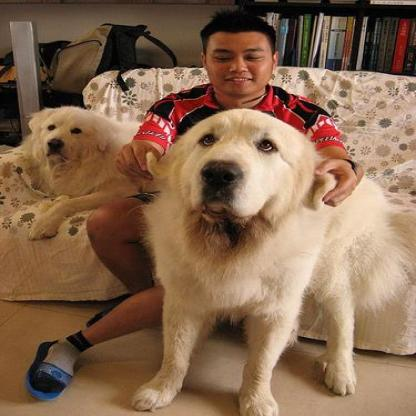Great_Pyrenees: (128, 107, 413, 412), (0, 105, 132, 239)
